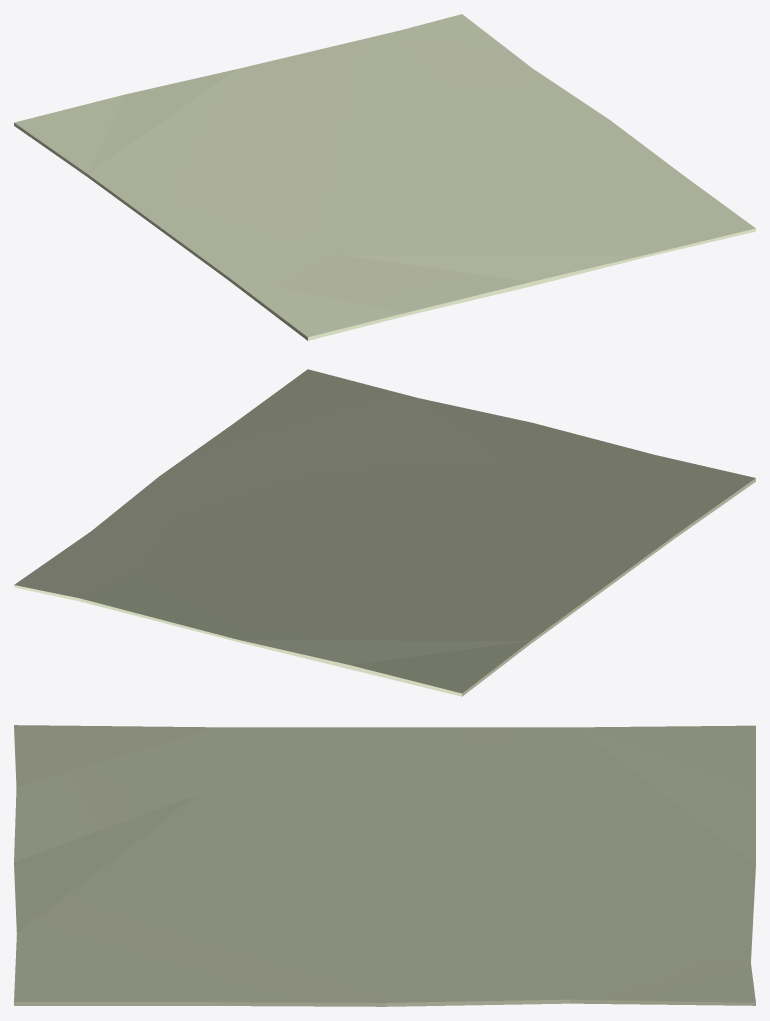
The model's file is hotl_carpet.FBX.
The picture shows the model from 3 angles, top to bottom: view 1: azimuth 30°, elevation 25°; view 2: azimuth 150°, elevation 25°; view 3: azimuth 270°, elevation 25°; orthographic projection. The views are drawn at different scales.
Parts seen in each view (by area): view 1: carpet; view 2: carpet; view 3: carpet.
Boxes of the visible parts, left/top/right/bottom form: carpet: left=14, top=14, right=755, bottom=340; carpet: left=14, top=369, right=755, bottom=696; carpet: left=14, top=725, right=755, bottom=1006.
Size of the model in its own units: 4.39 by 0.0413 by 4.97.
